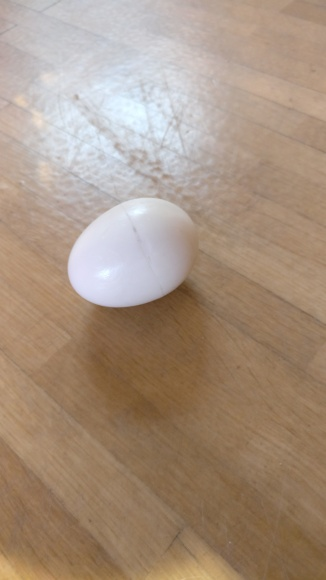egg: (67, 197, 201, 310)
